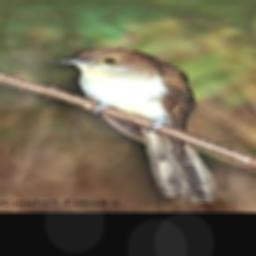Cuckoo: (55, 46, 219, 202)
